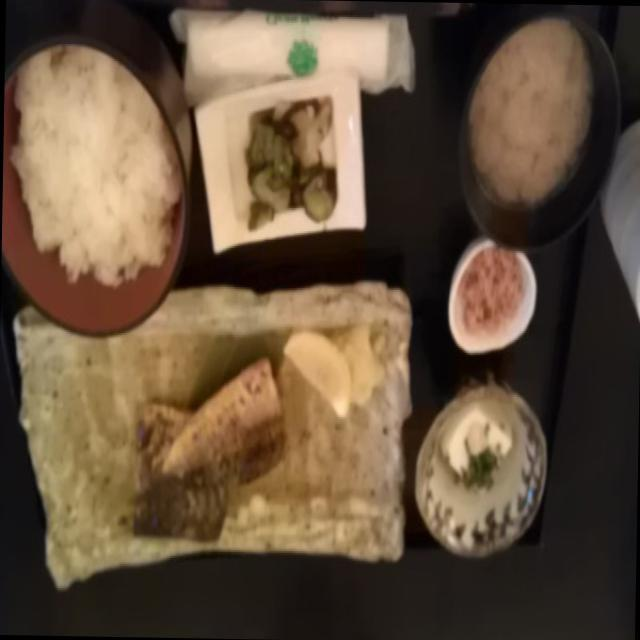Rice: (10, 46, 179, 292)
